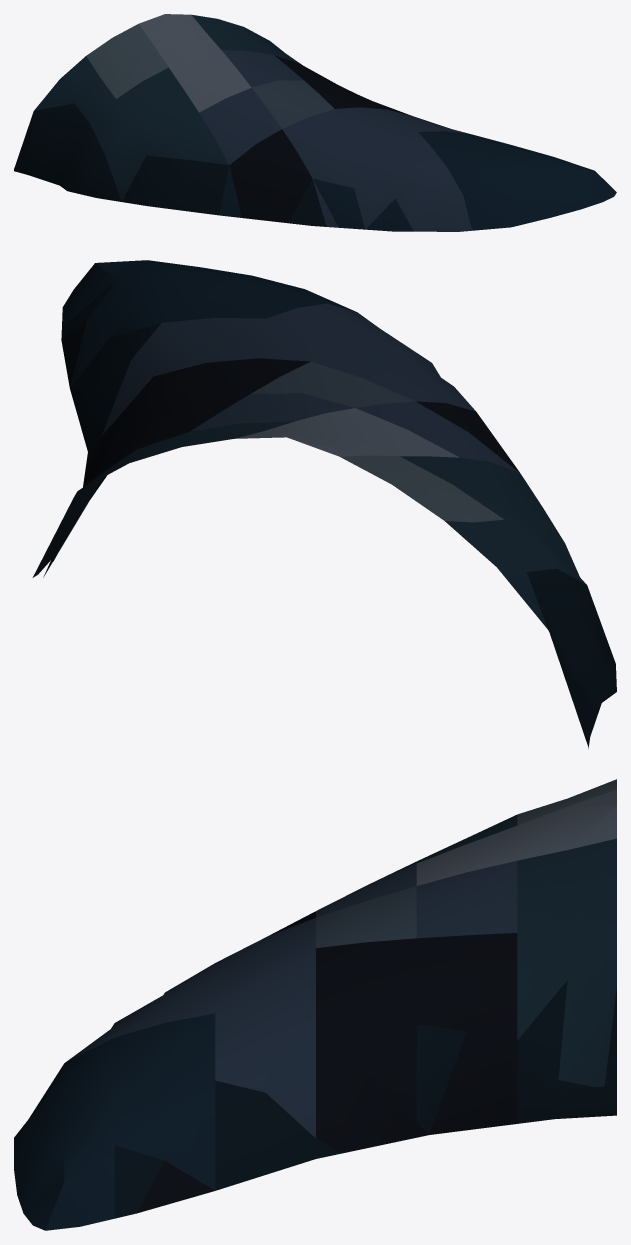
Rendered from gyges_pincer_245.glb.
3 views of the same model, one above another, from view 1: azimuth 30°, elevation 25°; view 2: azimuth 150°, elevation 25°; view 3: azimuth 270°, elevation 25° (orthographic). The views are drawn at different scales.
Visible parts, largest first — view 1: gyges_pincer_245_pincer; view 2: gyges_pincer_245_pincer; view 3: gyges_pincer_245_pincer.
Part boxes in pixels (box(x1,y1,x2,y2)): gyges_pincer_245_pincer: box(14, 14, 616, 231); gyges_pincer_245_pincer: box(32, 260, 616, 748); gyges_pincer_245_pincer: box(14, 779, 616, 1230).
Bounding box in the file's own units: 8.18 × 2.18 × 5.99.
